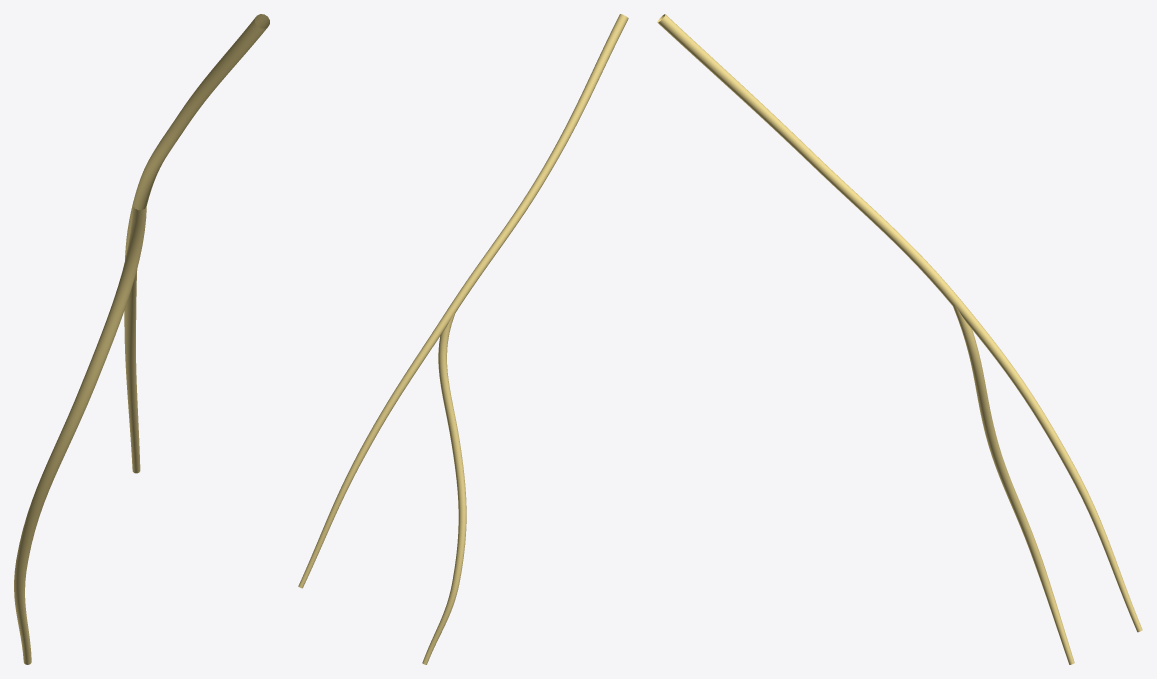
The picture shows the model from 3 angles, left to right: view 1: azimuth 30°, elevation 25°; view 2: azimuth 150°, elevation 25°; view 3: azimuth 270°, elevation 25°; orthographic projection. The views are drawn at different scales.
Parts seen in each view (by area): view 1: ZA_4dae25505675cdc7; view 2: ZA_4dae25505675cdc7; view 3: ZA_4dae25505675cdc7.
Boxes of the visible parts, x1,y1,x2,y2 form: ZA_4dae25505675cdc7: (14,14,269,664); ZA_4dae25505675cdc7: (298,14,628,664); ZA_4dae25505675cdc7: (657,14,1142,664).
Bounding box in the file's own units: 0.0241 × 0.0947 × 0.0657.
